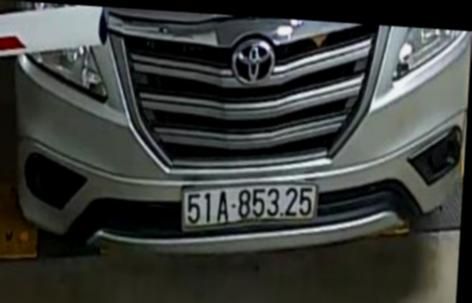License_Plate: (181, 167, 330, 241)
